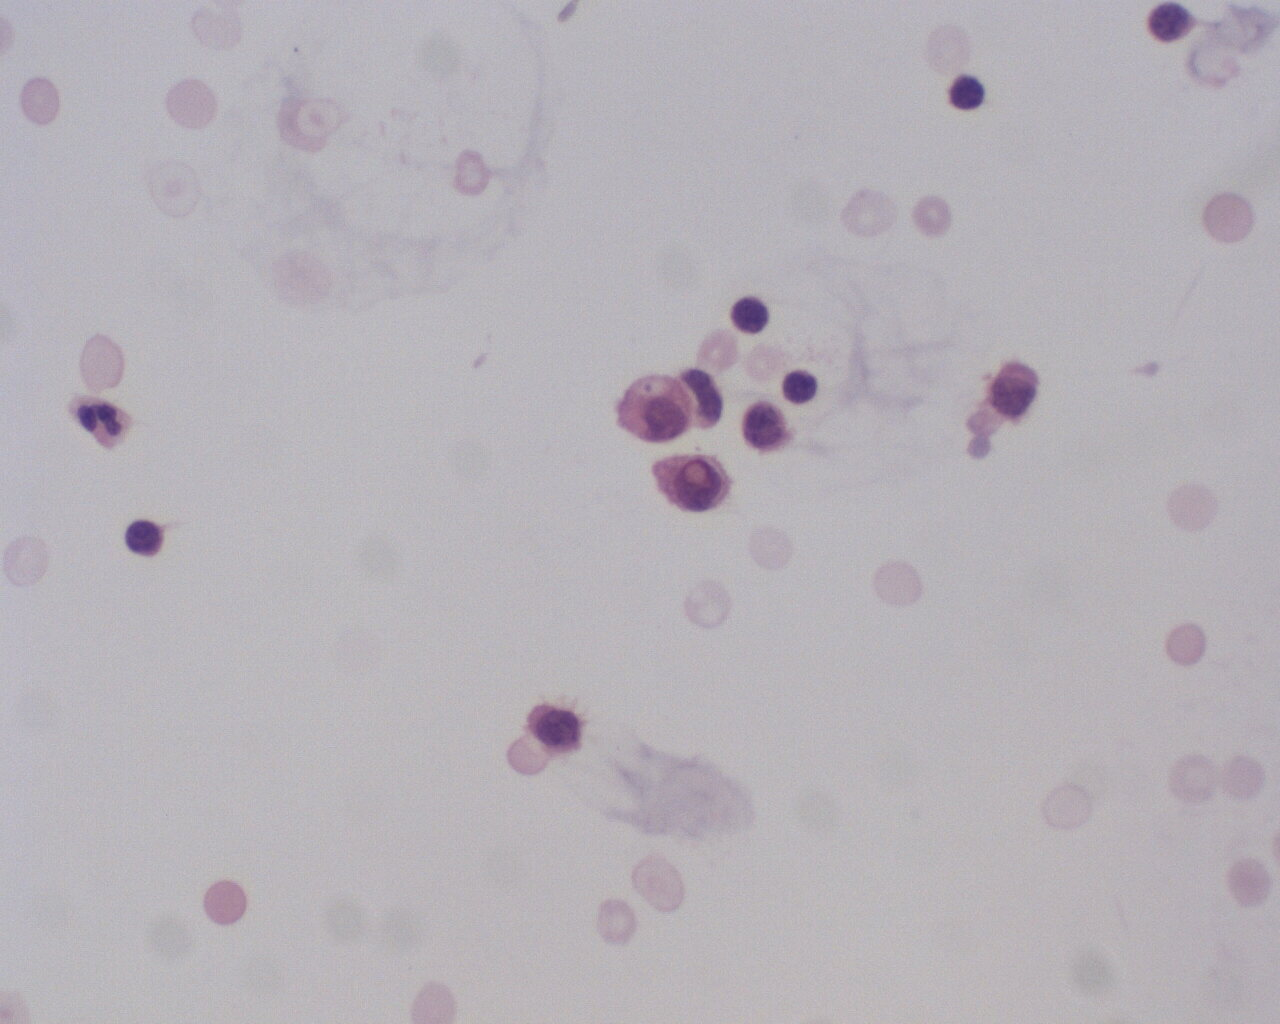ab: (645, 453, 739, 514)
lymph: (948, 70, 988, 118), (732, 293, 770, 340), (782, 362, 820, 406)
meso: (612, 371, 697, 443)
